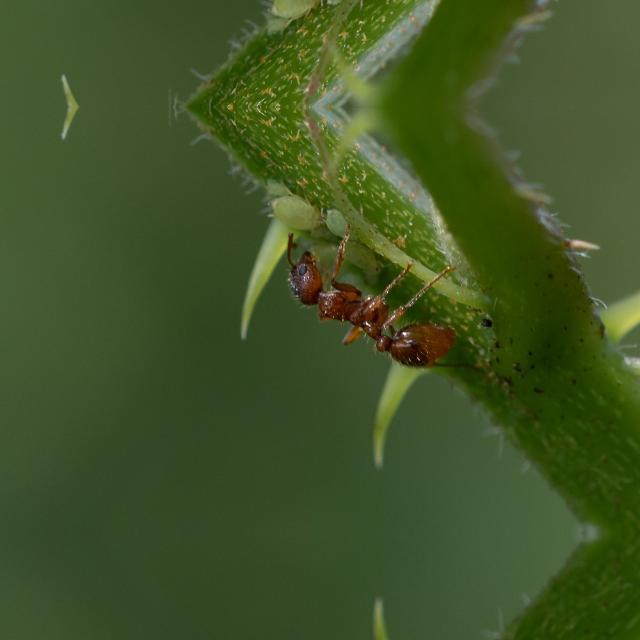Myrmica: (272, 226, 500, 380)
